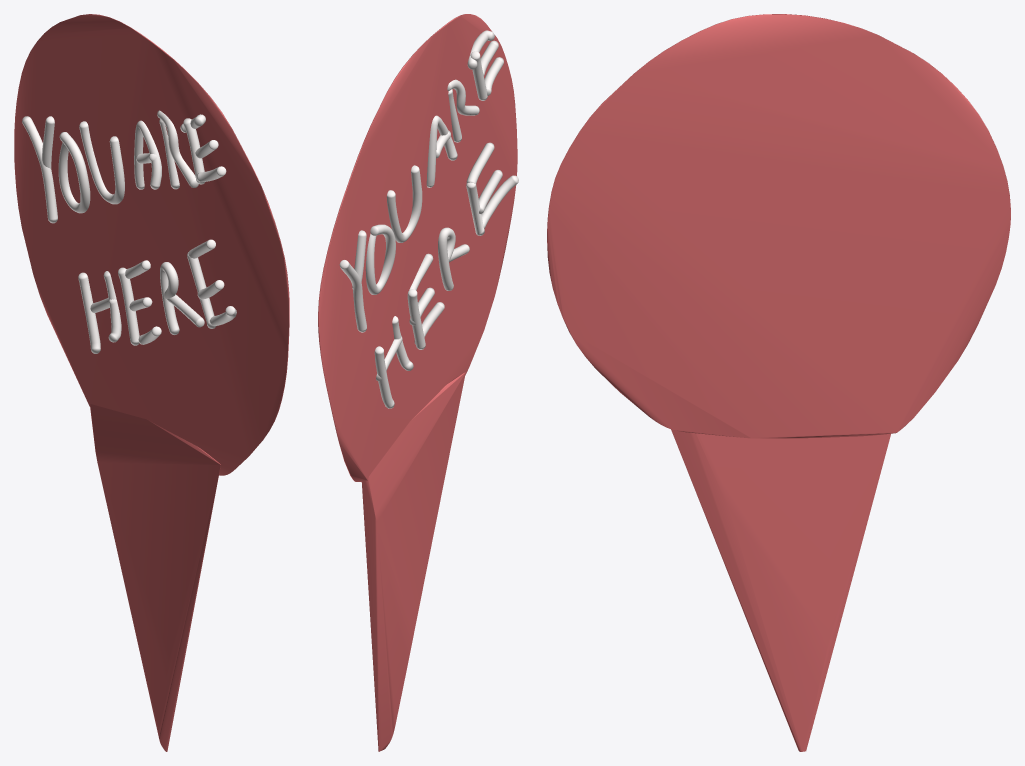
Rendered from you are here.fbx.
The picture shows the model from 3 angles, left to right: view 1: azimuth 30°, elevation 25°; view 2: azimuth 150°, elevation 25°; view 3: azimuth 270°, elevation 25°; orthographic projection. The views are drawn at different scales.
Parts seen in each view (by area): view 1: you_are_here; view 2: you_are_here; view 3: you_are_here.
Boxes of the visible parts, x1,y1,x2,y2 form: you_are_here: [14, 14, 289, 751]; you_are_here: [318, 14, 518, 751]; you_are_here: [547, 14, 1010, 751].
Bounding box in the file's own units: 279 × 3524 × 2067.
